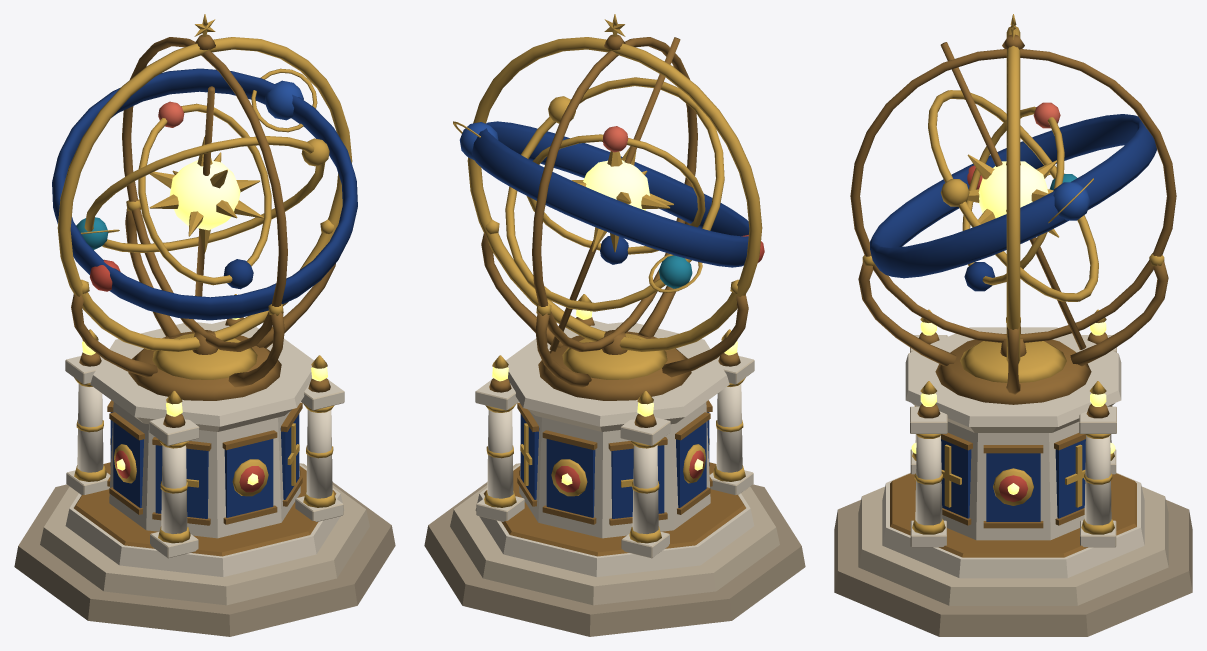
Rendered from landmark_akashic_orrery.glb.
3 renders of one model, left to right at view 1: azimuth 30°, elevation 25°; view 2: azimuth 150°, elevation 25°; view 3: azimuth 270°, elevation 25°, orthographic.
Parts seen in each view (by area): view 1: landmark_akashic_orrery; view 2: landmark_akashic_orrery; view 3: landmark_akashic_orrery.
Boxes of the visible parts, bbox=[...] form: landmark_akashic_orrery: bbox=[14, 14, 395, 636]; landmark_akashic_orrery: bbox=[424, 14, 805, 636]; landmark_akashic_orrery: bbox=[834, 14, 1192, 636].
Bounding box in the file's own units: 7.43 × 12.51 × 7.43.
